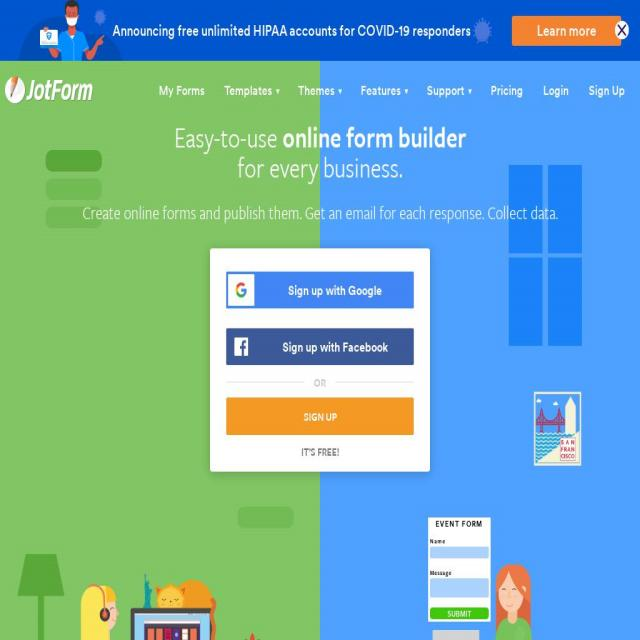login-option: (535, 72, 575, 102)
navigation-links: (152, 65, 526, 105)
sign-up-option: (210, 245, 434, 473), (585, 73, 633, 102)
